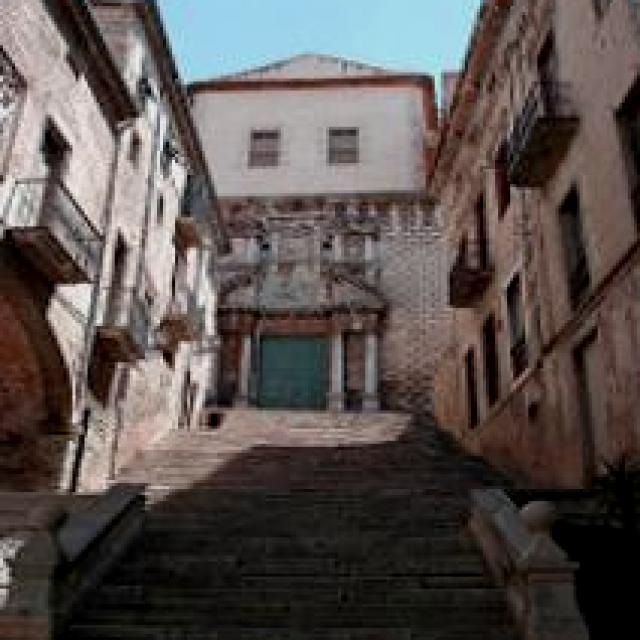upstair: (92, 399, 523, 632)
